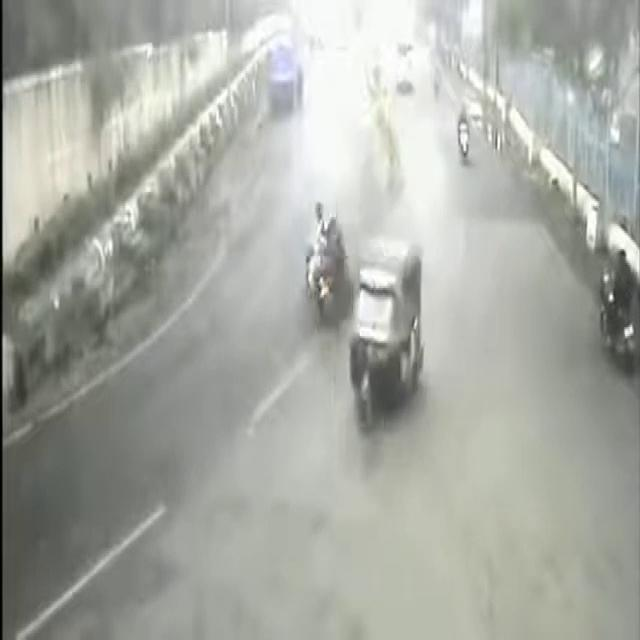accident: (297, 176, 351, 330)
